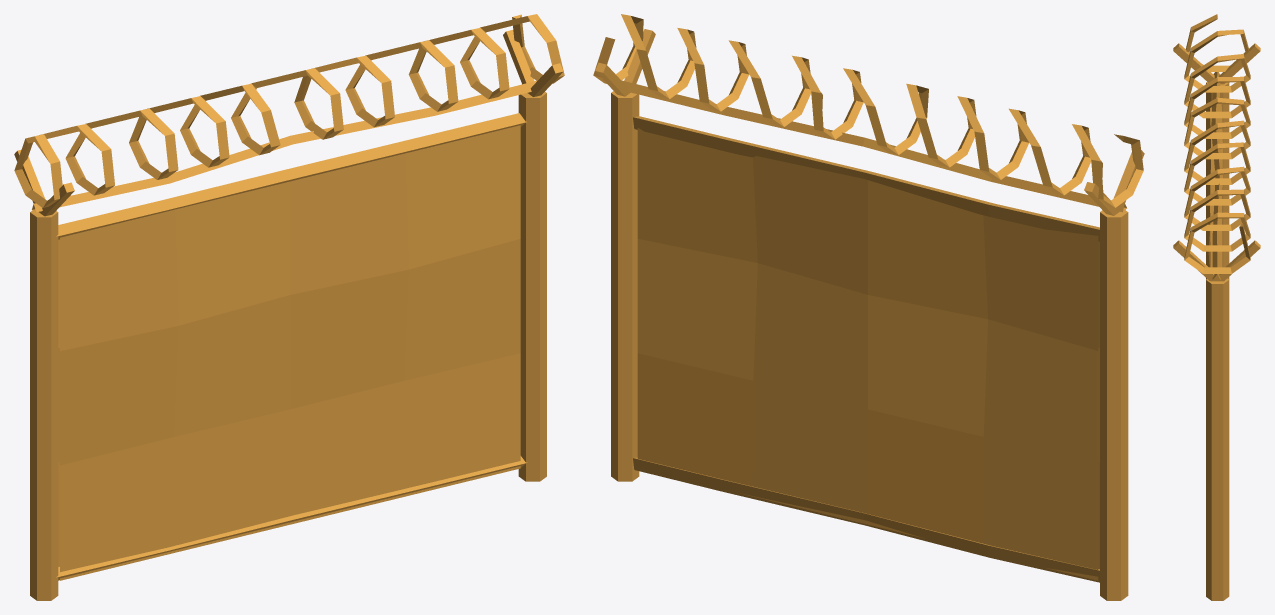
File: fence-wire.fbx
The picture shows the model from 3 angles, left to right: view 1: azimuth 30°, elevation 25°; view 2: azimuth 150°, elevation 25°; view 3: azimuth 270°, elevation 25°; orthographic projection. The views are drawn at different scales.
Parts seen in each view (by area): view 1: fence-wire; view 2: fence-wire; view 3: fence-wire.
Part boxes in pixels (x1,y1,x2,y2): fence-wire: [14, 14, 564, 600]; fence-wire: [593, 14, 1144, 600]; fence-wire: [1173, 14, 1260, 600].
Size of the model in its own units: 4.19 by 3.61 by 0.7467.
